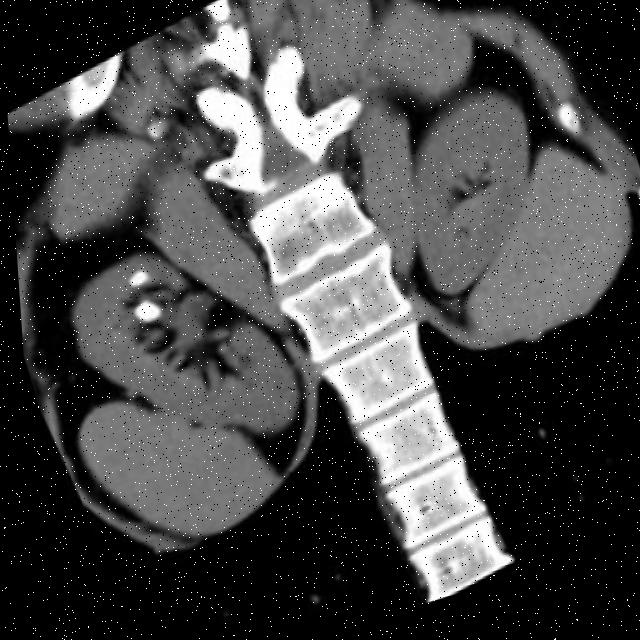Tas_Var: (122, 293, 160, 335), (117, 266, 148, 297)
